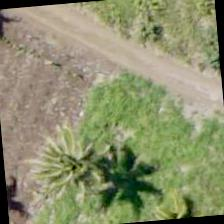Kelapa_Sawit: (29, 119, 127, 217)
